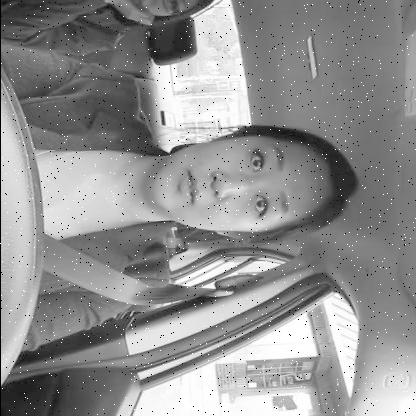seatbelt: (0, 113, 371, 309)
